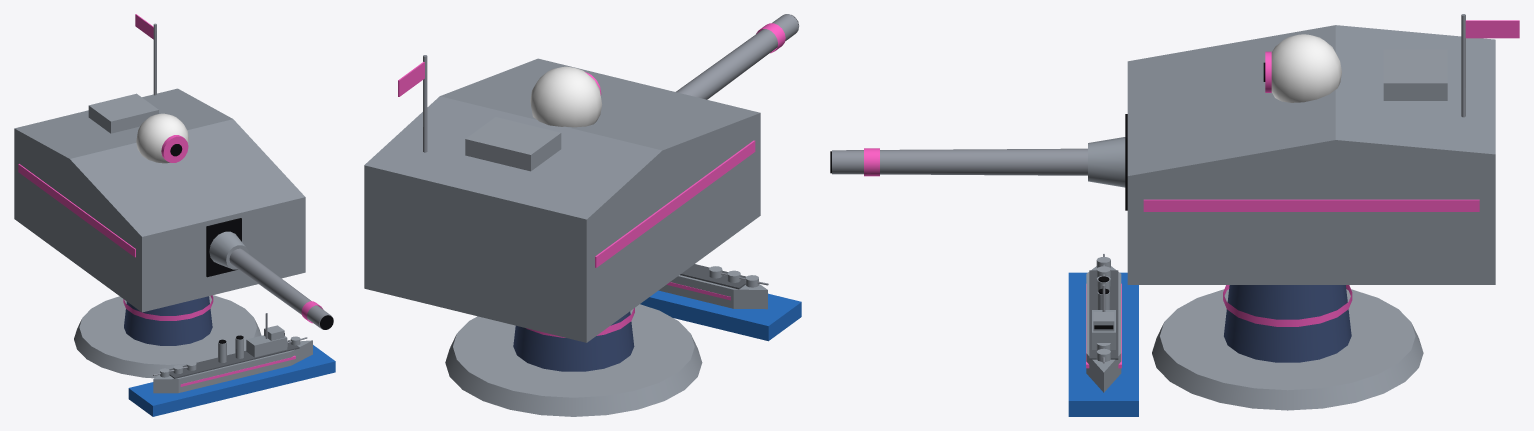
File: big_brother.obj
3 views of the same model, side by side, from view 1: azimuth 30°, elevation 25°; view 2: azimuth 150°, elevation 25°; view 3: azimuth 270°, elevation 25° (orthographic). The views are drawn at different scales.
Visible parts, largest first — view 1: turret, stand, barrel; view 2: turret, stand, barrel; view 3: turret, stand, barrel.
Boxes of the visible parts, x1,y1,x2,y2 form: turret: (14, 14, 305, 312); stand: (74, 295, 335, 416); barrel: (209, 231, 333, 329); turret: (364, 55, 760, 342); stand: (445, 264, 801, 416); barrel: (676, 14, 798, 99); turret: (1125, 14, 1519, 284); stand: (1068, 254, 1423, 416); barrel: (830, 137, 1125, 187).
Bounding box in the file's own units: 1.9 × 2.57 × 4.31.
